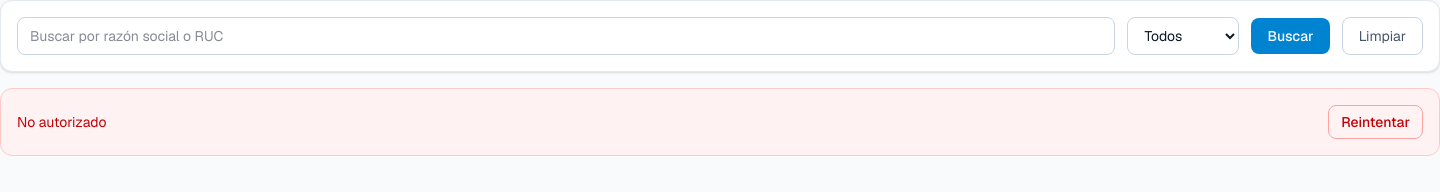
it: EmpresaList › shows the error with a Reintentar action that recovers the list
The image size is (1440, 192).
Expected: the message shows "No autorizado", [17, 113, 106, 131]
Click the button "Reintentar" at (1376, 122), box [1328, 105, 1423, 139]
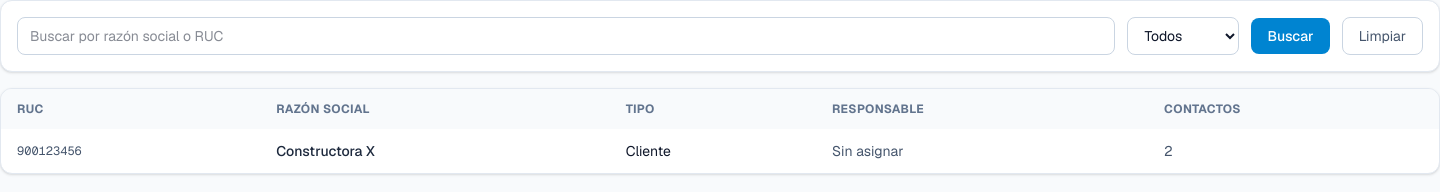
Expected: the link "Constructora X" is shown, [276, 142, 375, 160]
